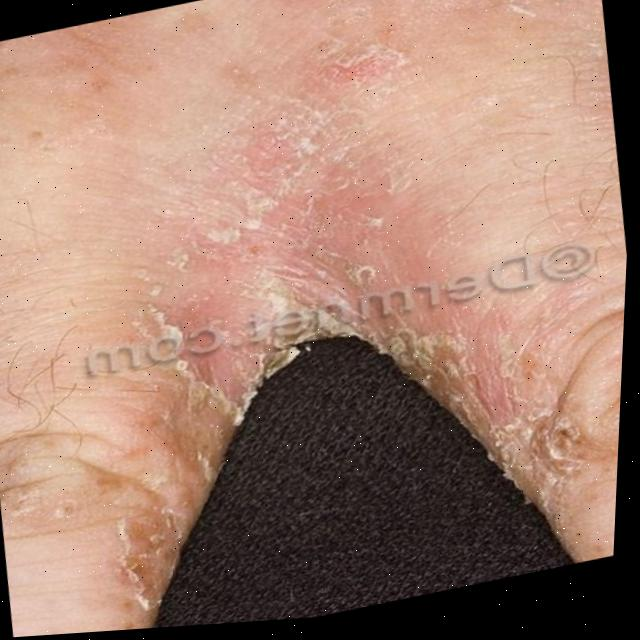Eczema: (34, 2, 505, 624)
